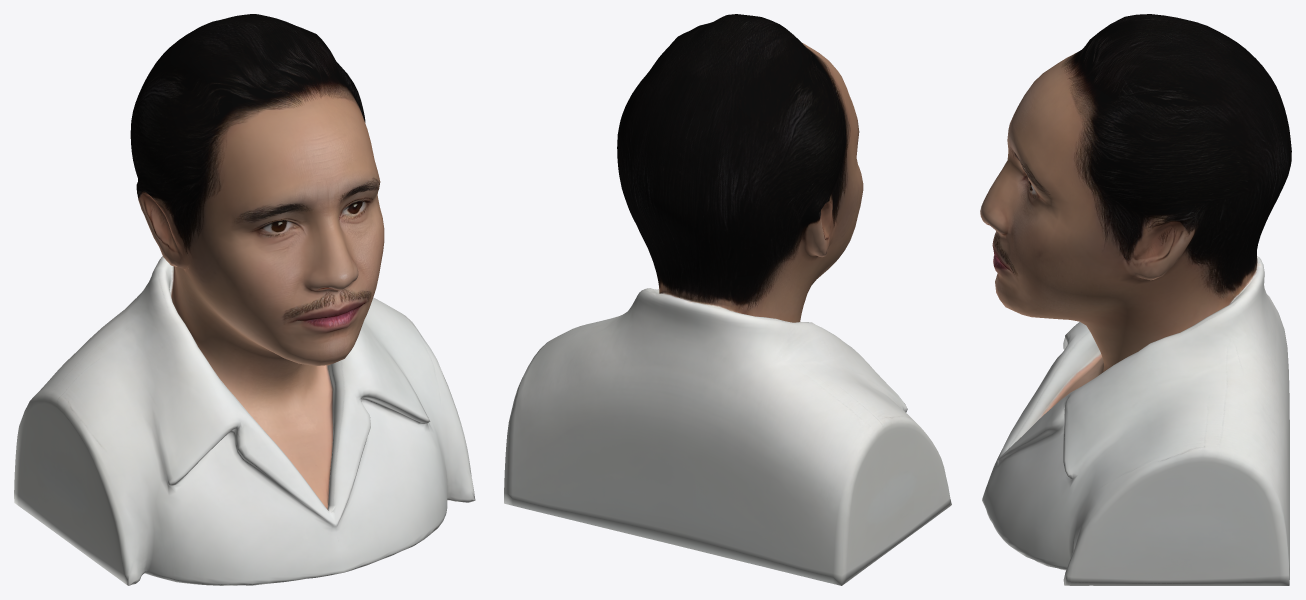
The model's file is bungtomo.glb.
3 views of the same model, side by side, from view 1: azimuth 30°, elevation 25°; view 2: azimuth 150°, elevation 25°; view 3: azimuth 270°, elevation 25° (orthographic). The views are drawn at different scales.
Parts seen in each view (by area): view 1: model; view 2: model; view 3: model.
Part boxes in pixels (x1,y1,x2,y2): model: (14,14,475,585); model: (504,14,951,585); model: (980,14,1291,585).
Size of the model in its own units: 1.38 by 1.83 by 1.08.
Materials: 1 (1 with a texture image).
